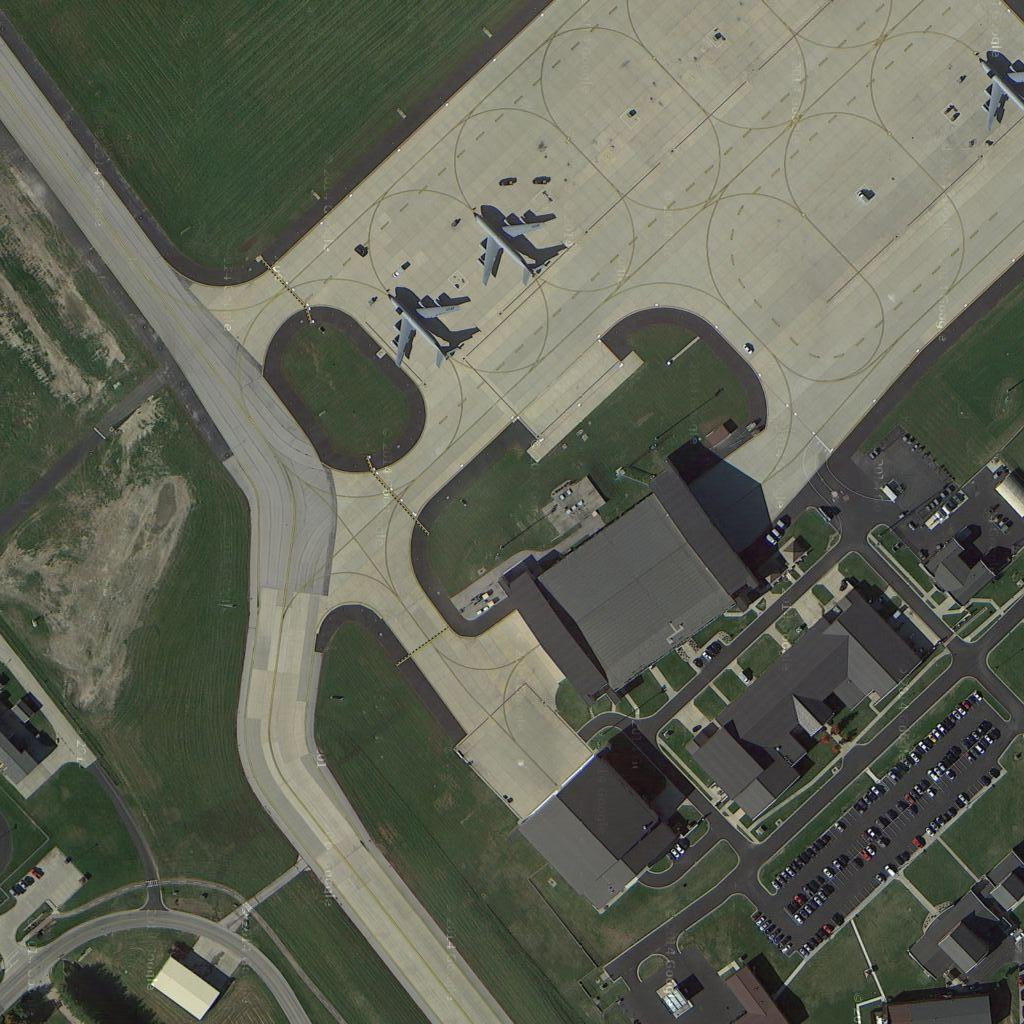KC-135: (459, 203, 558, 294), (381, 286, 473, 369), (976, 49, 1024, 125)
